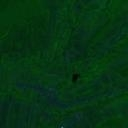alloviz: (70, 72, 80, 82)
